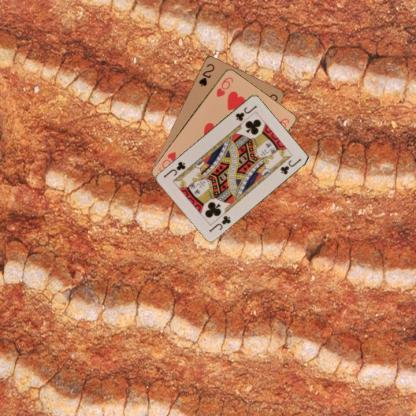2s: (196, 61, 216, 88)
6h: (214, 74, 234, 98)
Jc: (206, 212, 232, 233), (232, 102, 258, 122)
